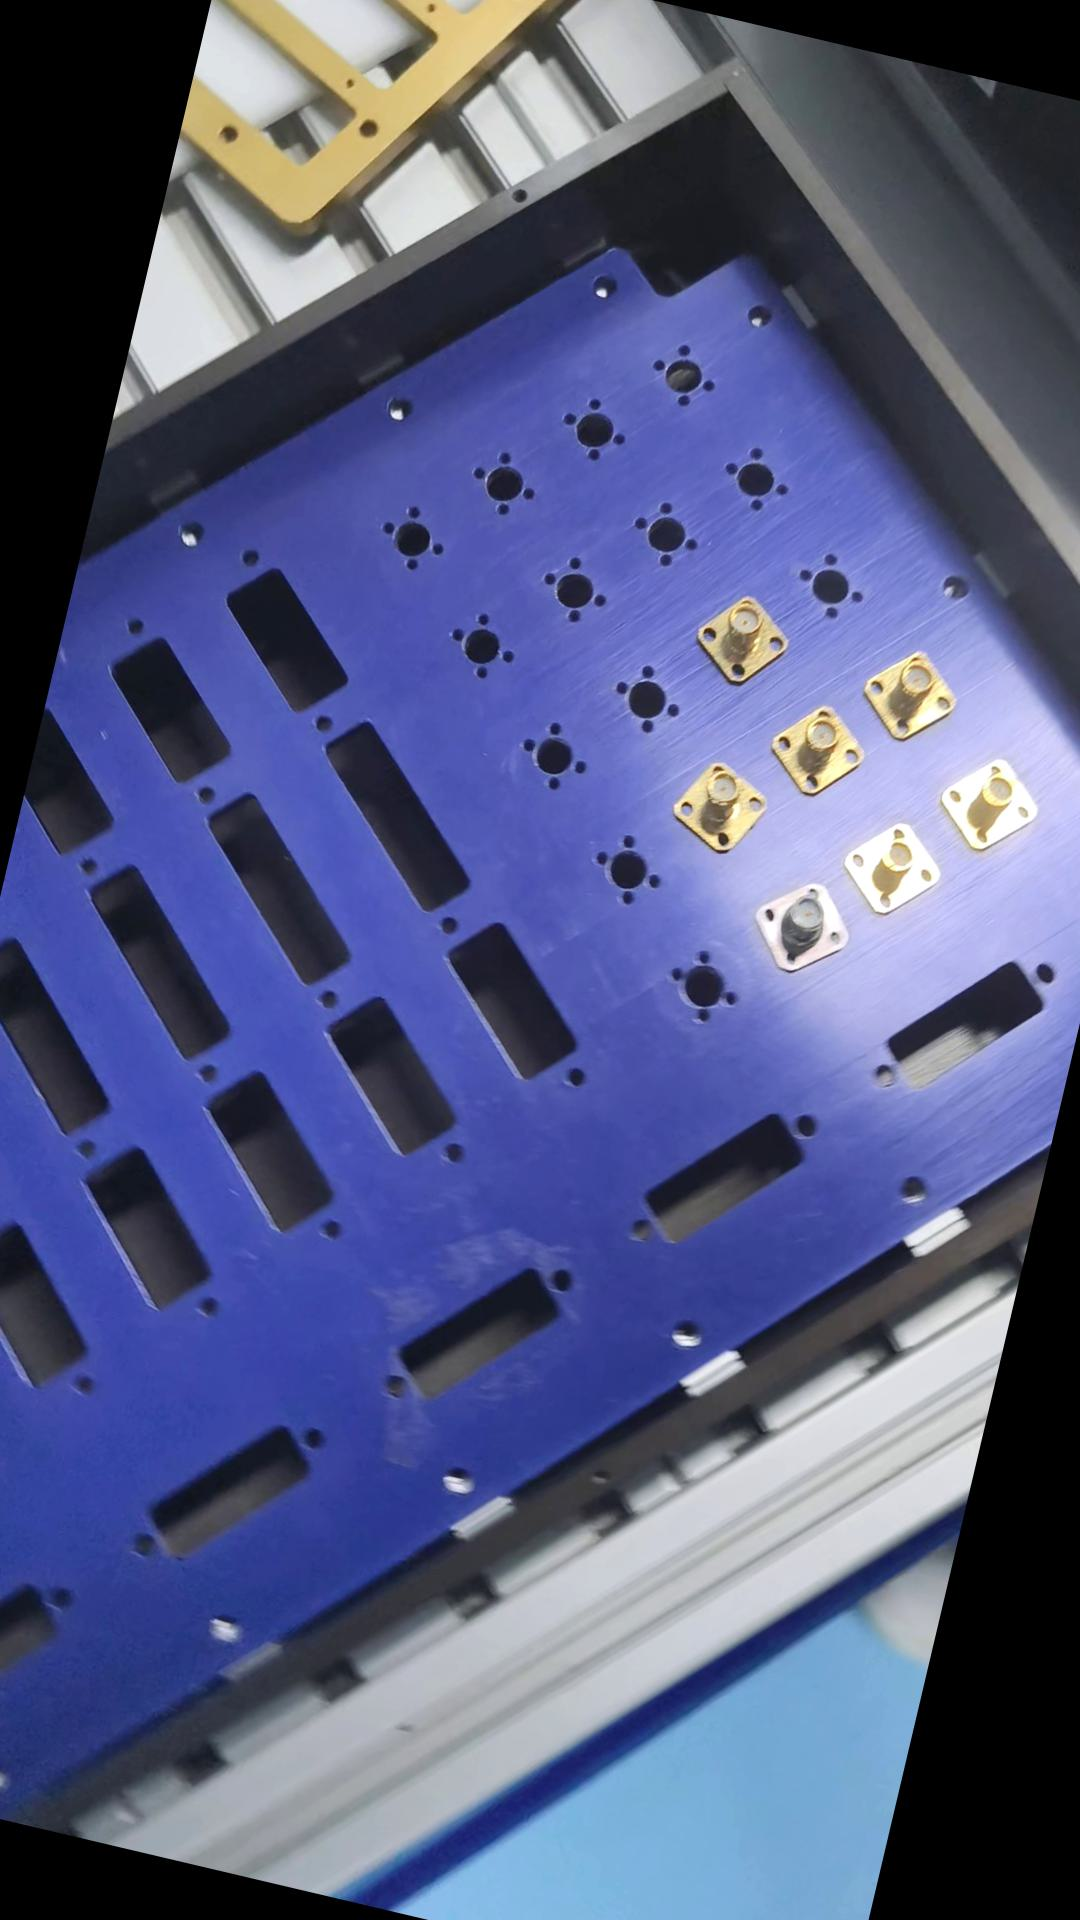SMA: (928, 744, 1048, 860), (756, 691, 868, 806), (742, 865, 858, 976), (831, 811, 945, 919), (855, 640, 964, 749), (662, 752, 771, 857), (687, 584, 795, 688)
